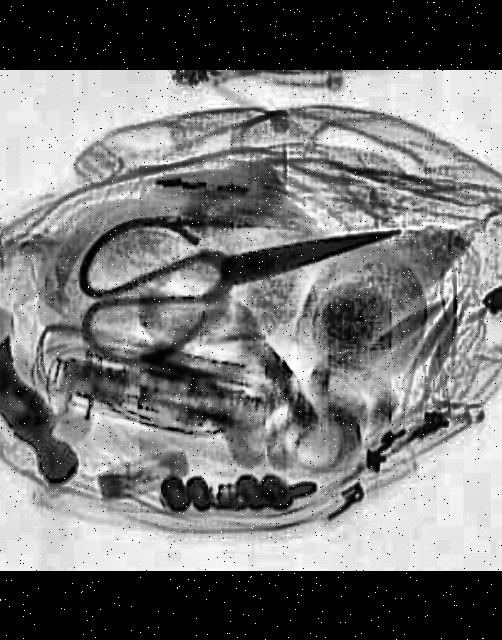Scissors: (61, 160, 425, 372)
